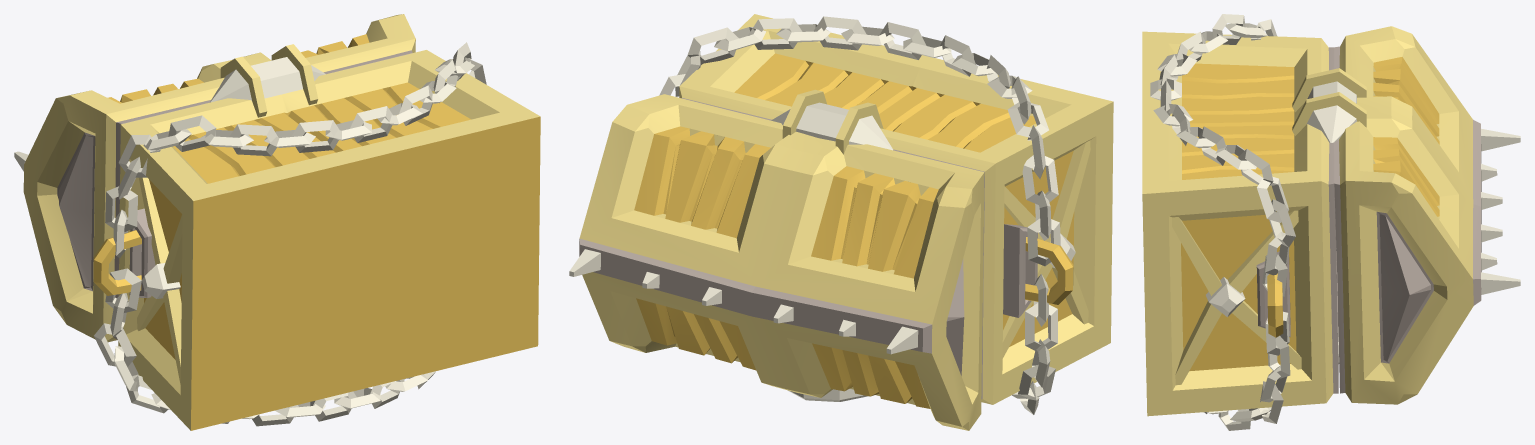
File: LegendaryChest.fbx
3 views of the same model, side by side, from view 1: azimuth 30°, elevation 25°; view 2: azimuth 150°, elevation 25°; view 3: azimuth 270°, elevation 25° (orthographic). The views are drawn at different scales.
Visible parts, largest first — view 1: Treasure_Chest_4a, Opened_6; view 2: Opened_6, Treasure_Chest_4a; view 3: Treasure_Chest_4a, Opened_6.
Part boxes in pixels (x1,y1,x2,y2): Treasure_Chest_4a: [93, 42, 540, 430]; Opened_6: [14, 14, 415, 342]; Opened_6: [569, 94, 984, 430]; Treasure_Chest_4a: [659, 14, 1113, 414]; Treasure_Chest_4a: [1142, 14, 1366, 430]; Opened_6: [1334, 26, 1520, 404].
Bounding box in the file's own units: 93.21 × 68.76 × 78.14.
